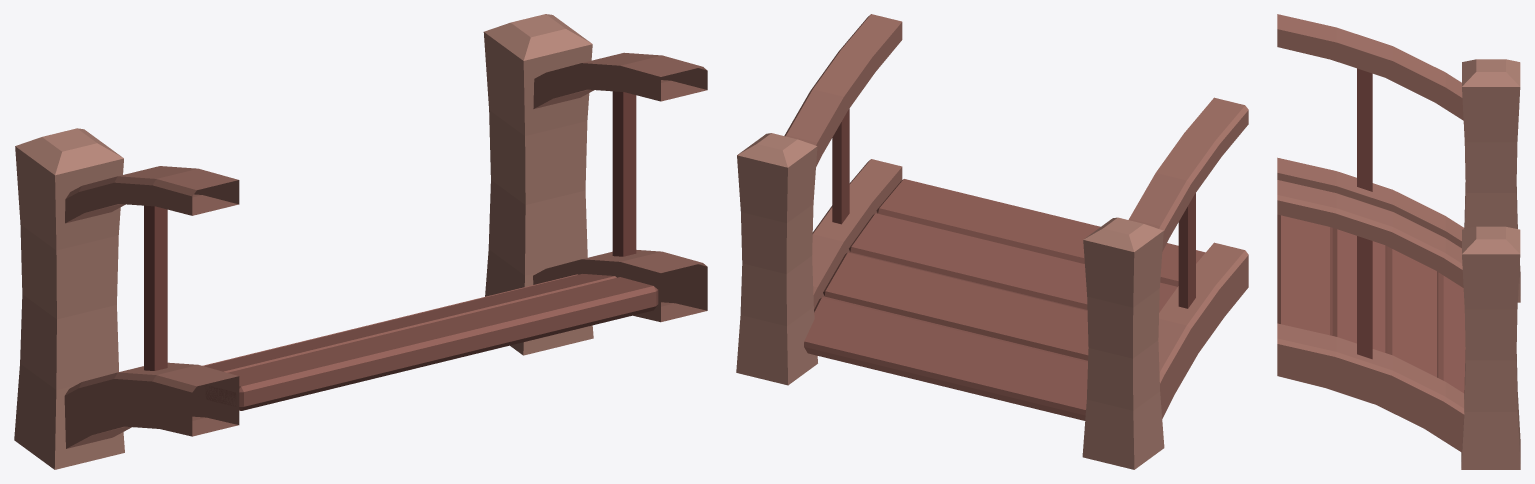
File: BridgeEnd.fbx
The picture shows the model from 3 angles, left to right: view 1: azimuth 30°, elevation 25°; view 2: azimuth 150°, elevation 25°; view 3: azimuth 270°, elevation 25°; orthographic projection. The views are drawn at different scales.
Parts seen in each view (by area): view 1: BridgeEnd; view 2: BridgeEnd; view 3: BridgeEnd.
Part boxes in pixels (x1,y1,x2,y2): BridgeEnd: (14, 14, 707, 469); BridgeEnd: (736, 14, 1248, 469); BridgeEnd: (1277, 14, 1520, 469).
Bounding box in the file's own units: 2.3 × 1.23 × 1.5.
